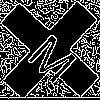M: (25, 25, 86, 87)
